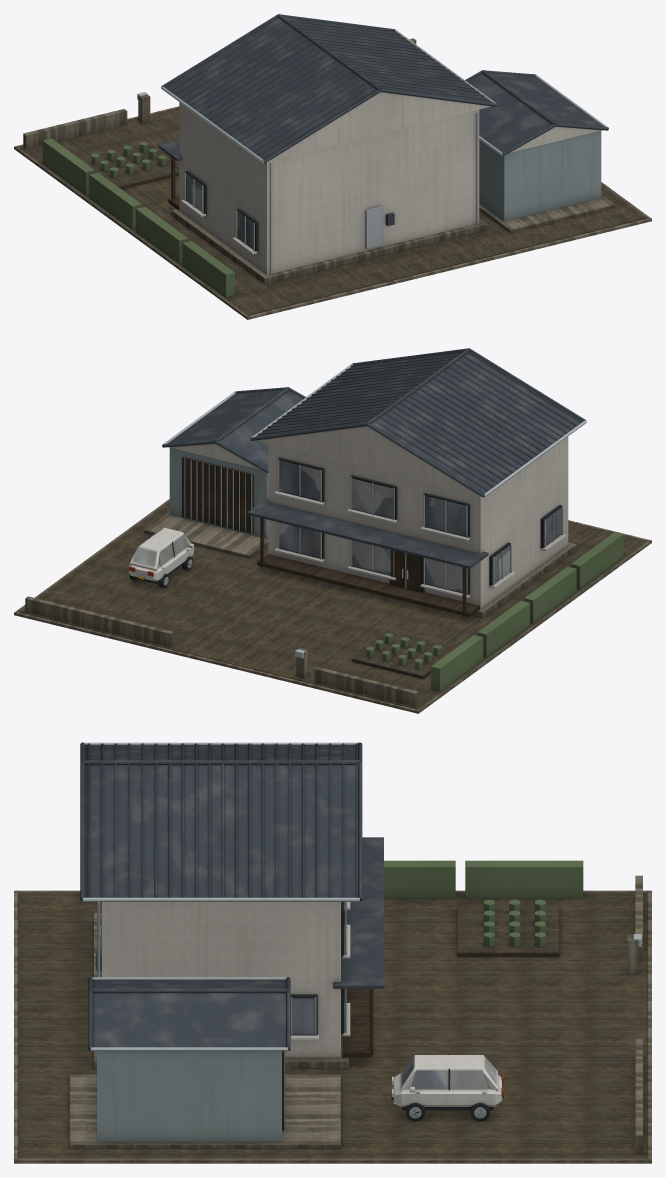
File: rural_house_001.obj
The picture shows the model from 3 angles, top to bottom: view 1: azimuth 30°, elevation 25°; view 2: azimuth 150°, elevation 25°; view 3: azimuth 270°, elevation 25°; orthographic projection. The views are drawn at different scales.
Parts seen in each view (by area): view 1: rural_house_001; view 2: rural_house_001; view 3: rural_house_001.
Boxes of the visible parts, <box> form: rural_house_001: <box>14,14,651,319</box>; rural_house_001: <box>14,348,651,713</box>; rural_house_001: <box>14,742,651,1163</box>.
Size of the model in its own units: 20 by 8.26 by 20.
1 material, 1 textured.
